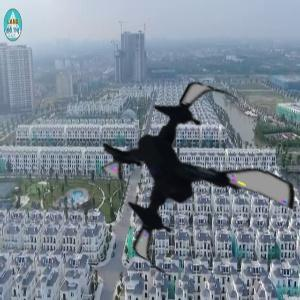drone: (93, 79, 299, 285)
